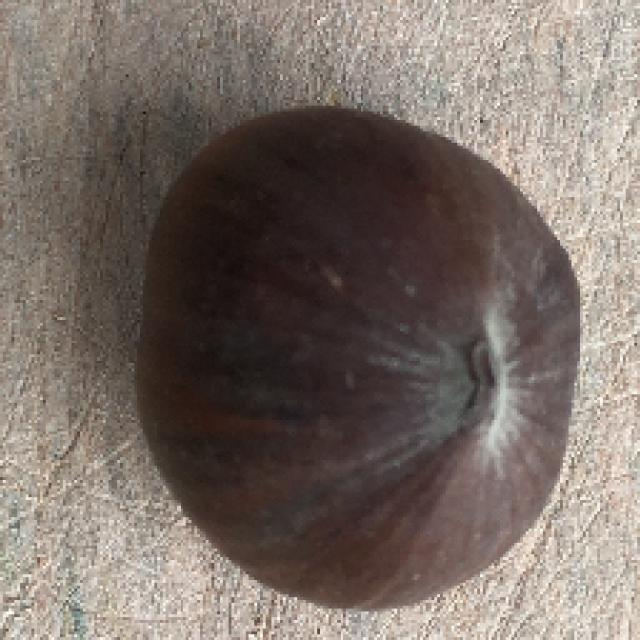qualityHazelnut: (139, 106, 596, 583)
